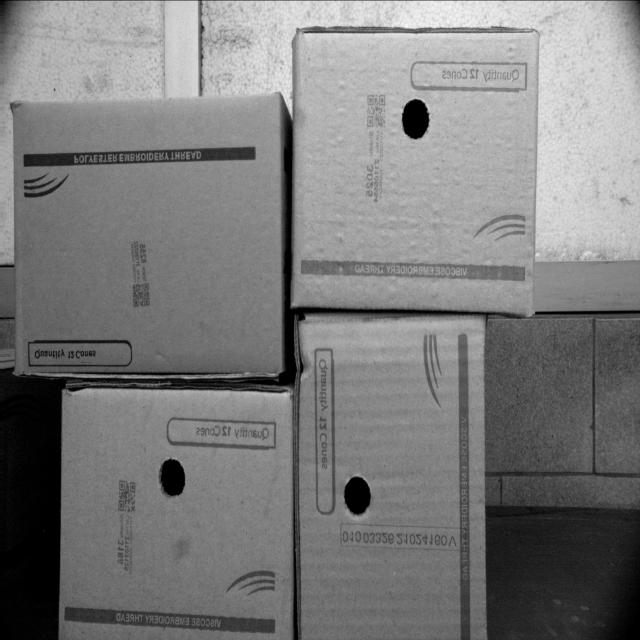cardboxes: (15, 98, 282, 376), (292, 30, 540, 308), (292, 320, 486, 639), (59, 392, 292, 639)
